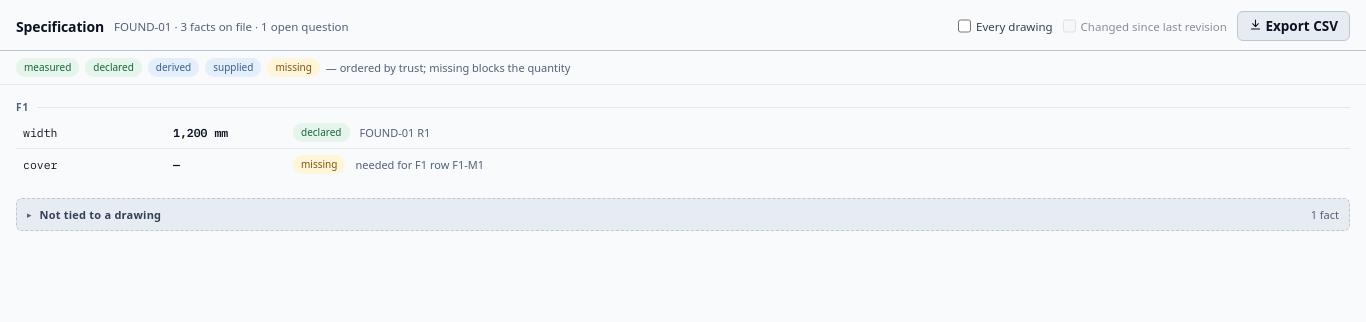
Scenario: a fact nothing can place is gathered, not interleaved › does not gather anything when every drawing is showing
The image size is (1366, 322).
Click the checkbox with test id "spec-whole-project".
click(964, 26)  # box [958,11,971,41]
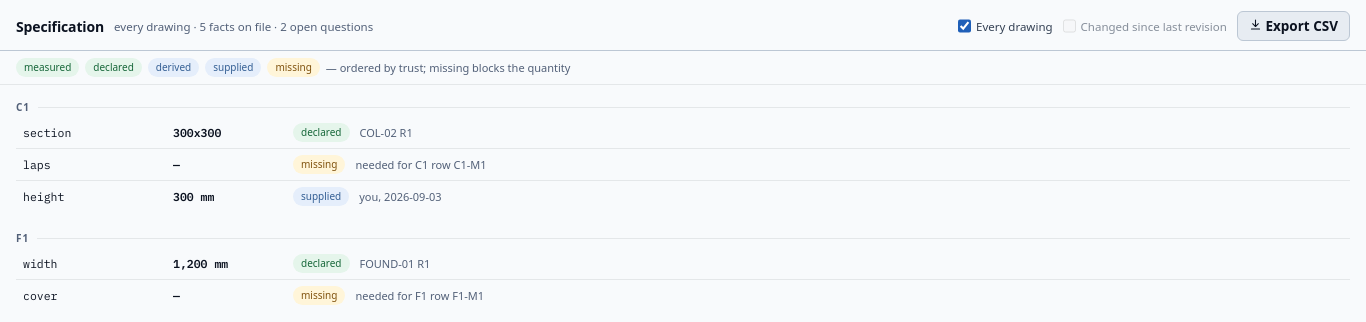
Expected: the element with test id "spec-unplaced" is gone
Expected: the element with test id "fact-C1.height" is shown, [16,181,1350,212]
